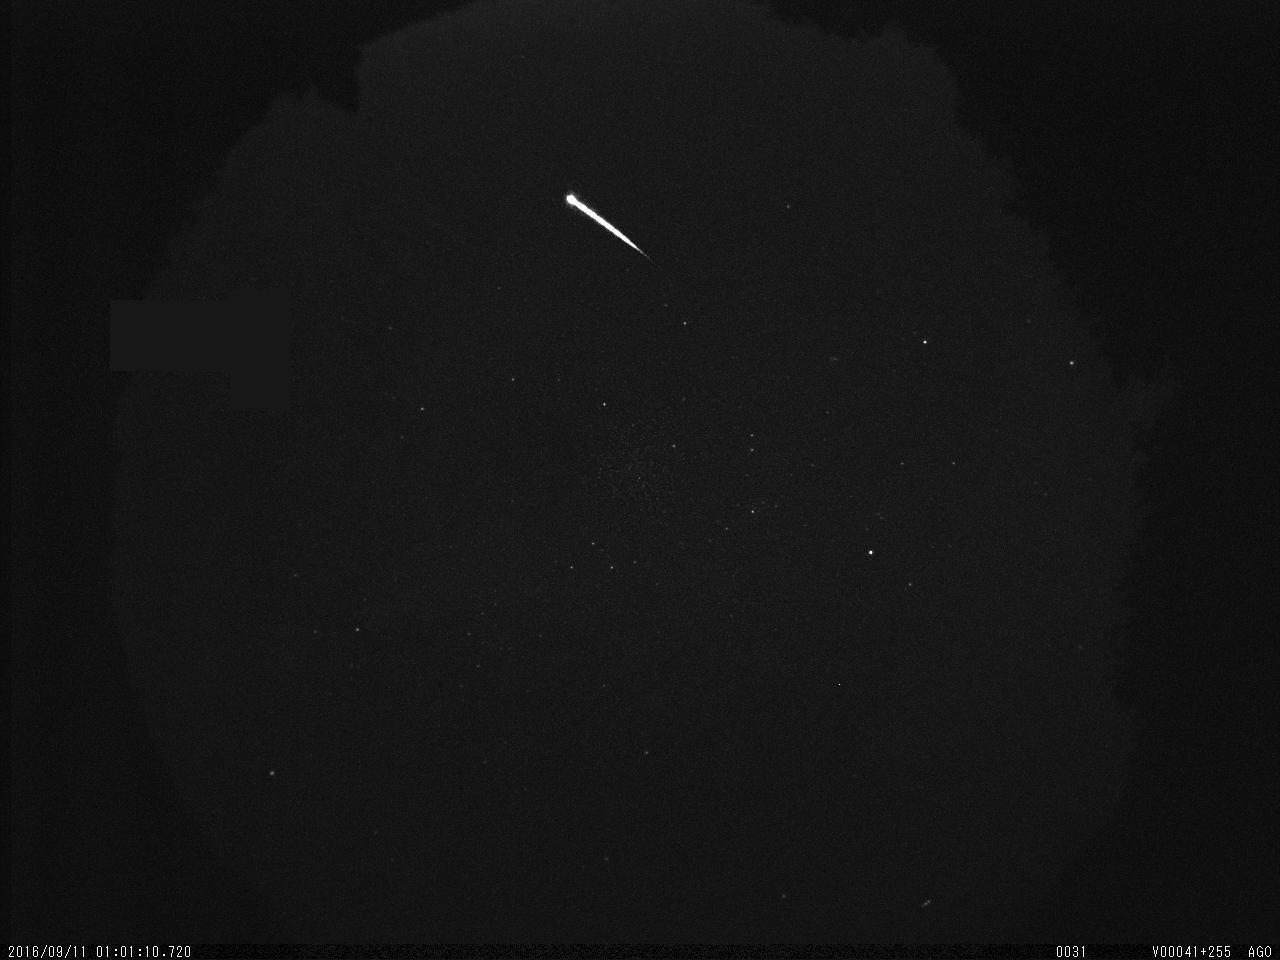meteor: (526, 160, 664, 282)
